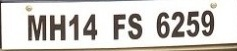character: (26, 14, 46, 41), (48, 14, 66, 40), (127, 12, 142, 40), (82, 13, 97, 40), (171, 11, 185, 38), (201, 9, 214, 37), (112, 13, 125, 40), (156, 11, 169, 38), (186, 10, 199, 37), (68, 14, 79, 41)
